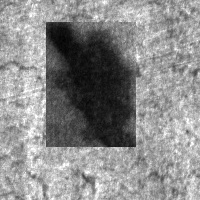crazing: (1, 123, 187, 198), (1, 58, 174, 128), (1, 6, 149, 72)
patches: (46, 22, 136, 147)
